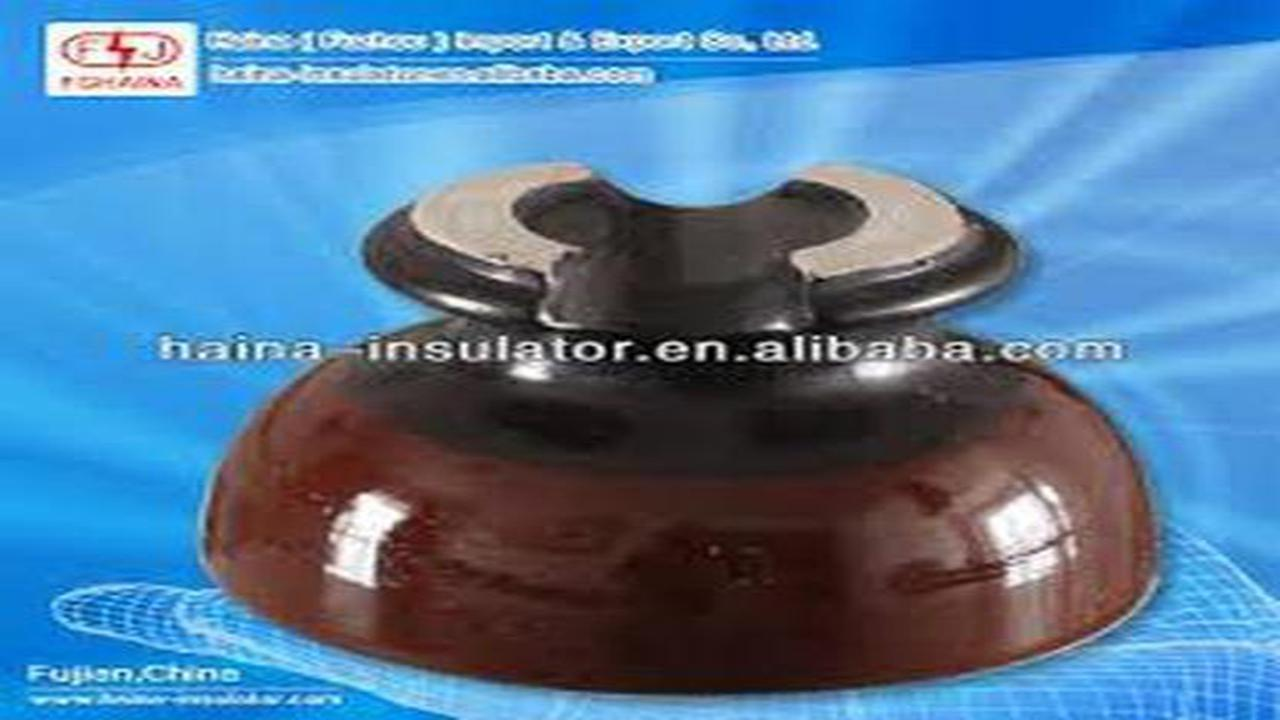insulator_pin: (194, 163, 1176, 703)
